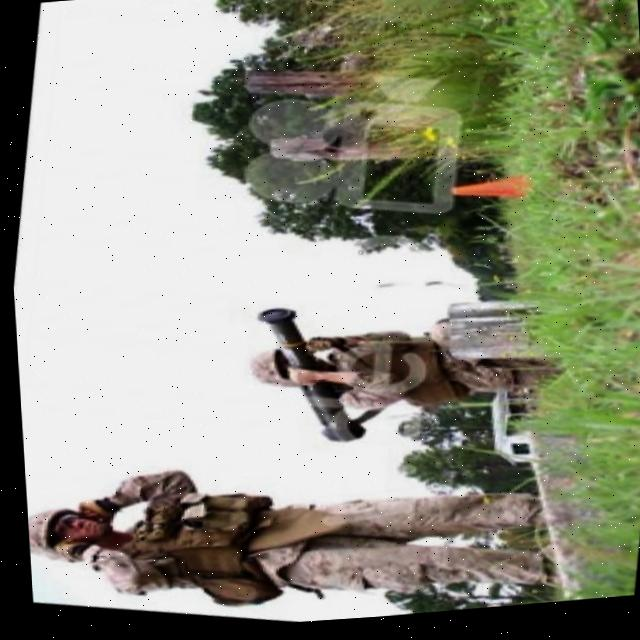rocket: (232, 299, 391, 458)
